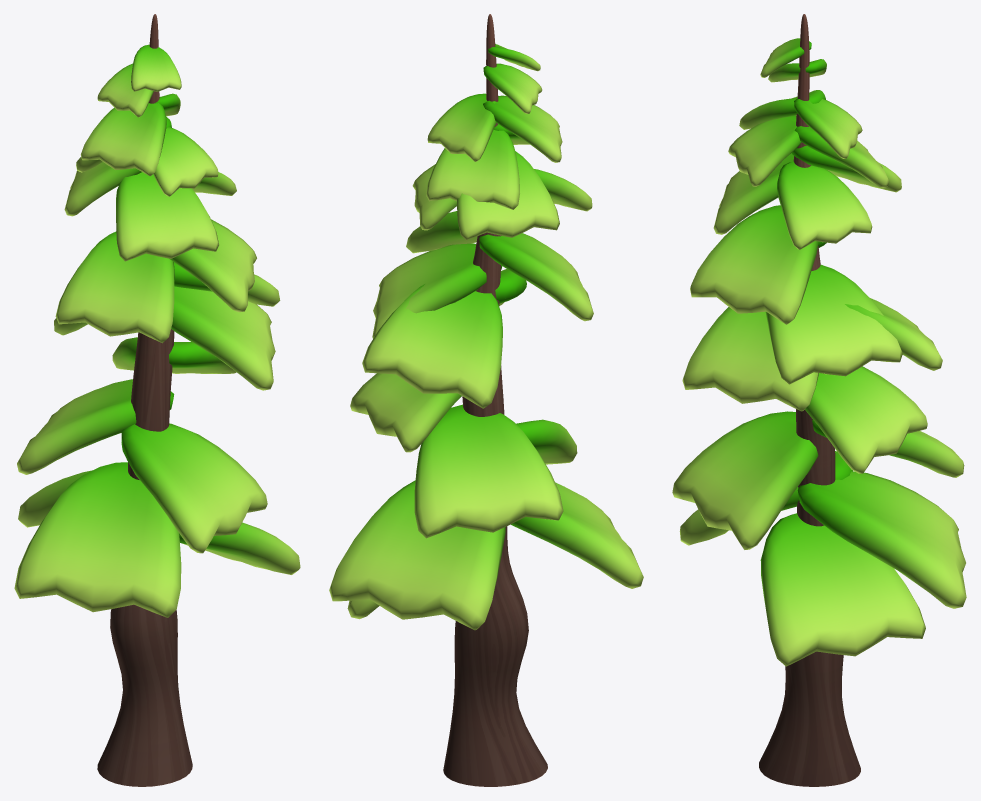
File: arbol_1.fbx
3 views of the same model, side by side, from view 1: azimuth 30°, elevation 25°; view 2: azimuth 150°, elevation 25°; view 3: azimuth 270°, elevation 25° (orthographic).
Parts seen in each view (by area): view 1: Arbol1|Hoja1|Dupli|12, Arbol1, Arbol1|Hoja1|Dupli|2, Arbol1|Hoja1|Dupli|16, Arbol1|Hoja1|Dupli|7, Arbol1|Hoja1|Dupli|8, Arbol1|Hoja1|Dupli|15, Arbol1|Hoja1|Dupli|13, Arbol1|Hoja1|Dupli|17, Arbol1|Hoja1|Dupli|19, Arbol1|Hoja1|Dupli|3, Arbol1|Hoja1|Dupli|14 (+6 smaller); view 2: Arbol1, Arbol1|Hoja1|Dupli|9, Arbol1|Hoja1|Dupli|15, Arbol1|Hoja1|Dupli|5, Arbol1|Hoja1|Dupli|18, Arbol1|Hoja1|Dupli|12, Arbol1|Hoja1|Dupli|14, Arbol1|Hoja1|Dupli|6, Arbol1|Hoja1|Dupli|16, Arbol1|Hoja1|Dupli|11, Arbol1|Hoja1|Dupli|10, Arbol1|Hoja1|Dupli|13 (+7 smaller); view 3: Arbol1|Hoja1|Dupli|19, Arbol1, Arbol1|Hoja1|Dupli|9, Arbol1|Hoja1|Dupli|2, Arbol1|Hoja1|Dupli|18, Arbol1|Hoja1|Dupli|17, Arbol1|Hoja1|Dupli|14, Arbol1|Hoja1|Dupli|8, Arbol1|Hoja1|Dupli|4, Arbol1|Hoja1|Dupli|3, Arbol1|Hoja1|Dupli|7, Arbol1|Hoja1|Dupli|10 (+8 smaller).
Part boxes in pixels (x1,y1,x2,y2): Arbol1|Hoja1|Dupli|12: (14,462,181,617); Arbol1: (97,14,192,786); Arbol1|Hoja1|Dupli|2: (121,423,267,553); Arbol1|Hoja1|Dupli|16: (55,231,174,343); Arbol1|Hoja1|Dupli|7: (116,172,218,261); Arbol1|Hoja1|Dupli|8: (171,286,275,390); Arbol1|Hoja1|Dupli|15: (17,379,174,474); Arbol1|Hoja1|Dupli|13: (80,103,166,176); Arbol1|Hoja1|Dupli|17: (169,219,256,312); Arbol1|Hoja1|Dupli|19: (179,522,300,574); Arbol1|Hoja1|Dupli|3: (153,126,218,196); Arbol1|Hoja1|Dupli|14: (112,337,236,373); Arbol1: (443,14,547,786); Arbol1|Hoja1|Dupli|9: (329,480,505,630); Arbol1|Hoja1|Dupli|15: (414,404,563,538); Arbol1|Hoja1|Dupli|5: (362,284,502,408); Arbol1|Hoja1|Dupli|18: (372,243,502,338); Arbol1|Hoja1|Dupli|12: (511,482,643,588); Arbol1|Hoja1|Dupli|14: (350,373,461,452); Arbol1|Hoja1|Dupli|6: (426,129,519,209); Arbol1|Hoja1|Dupli|16: (479,233,593,321); Arbol1|Hoja1|Dupli|11: (457,151,559,240); Arbol1|Hoja1|Dupli|10: (427,93,496,161); Arbol1|Hoja1|Dupli|13: (483,95,562,162); Arbol1|Hoja1|Dupli|19: (760,513,925,666); Arbol1: (759,14,860,786); Arbol1|Hoja1|Dupli|9: (797,471,966,608); Arbol1|Hoja1|Dupli|2: (672,411,818,549); Arbol1|Hoja1|Dupli|18: (765,264,902,384); Arbol1|Hoja1|Dupli|17: (690,205,818,324); Arbol1|Hoja1|Dupli|14: (805,366,927,473); Arbol1|Hoja1|Dupli|8: (682,307,818,411); Arbol1|Hoja1|Dupli|4: (777,161,872,249); Arbol1|Hoja1|Dupli|3: (728,115,801,186); Arbol1|Hoja1|Dupli|7: (713,153,793,234); Arbol1|Hoja1|Dupli|10: (794,96,862,158).
Size of the model in its own units: 487 by 1247 by 440.
